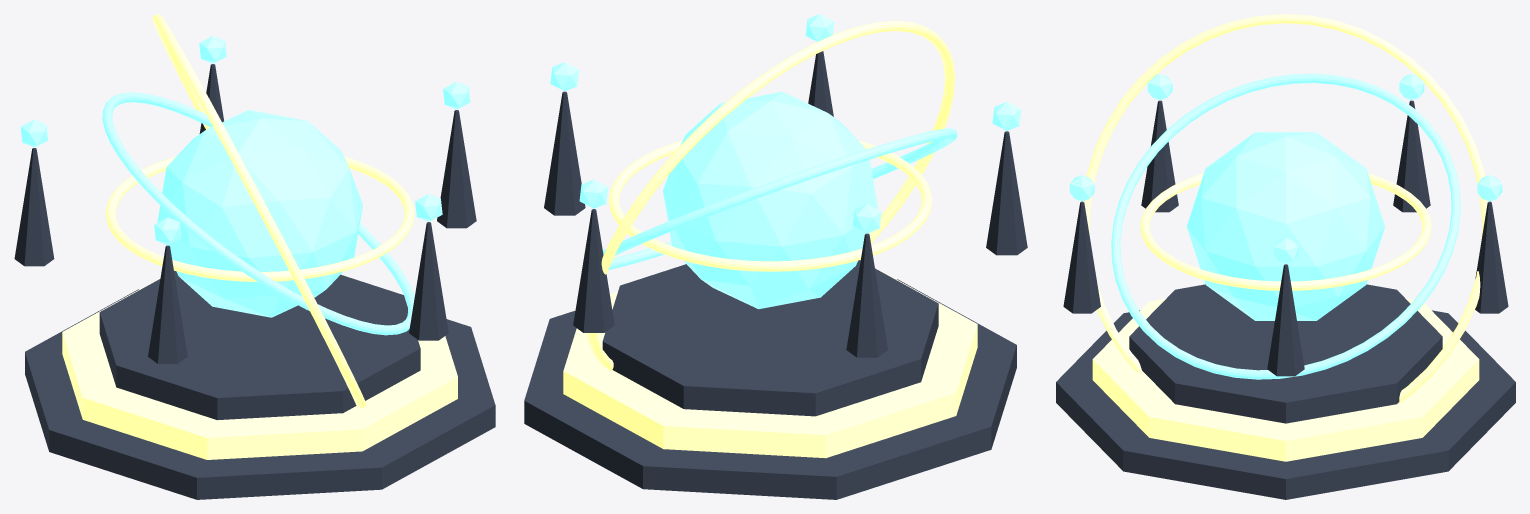
The model's file is gpu-blender-v54.glb.
3 renders of one model, left to right at view 1: azimuth 30°, elevation 25°; view 2: azimuth 150°, elevation 25°; view 3: azimuth 270°, elevation 25°, orthographic. The views are drawn at different scales.
Parts seen in each view (by area): view 1: Cylinder.002, SovereignCore_adytum-alchemist-ai-workflow, Cylinder, Cylinder.001, Torus.001, Torus.002, Torus, Cone.002, Cone.004, Cone.003, Cone, Icosphere.001 (+5 smaller); view 2: Cylinder.002, SovereignCore_adytum-alchemist-ai-workflow, Cylinder, Cylinder.001, Torus.002, Torus, Torus.001, Cone.003, Cone.002, Cone, Cone.001, Cone.004 (+5 smaller); view 3: SovereignCore_adytum-alchemist-ai-workflow, Cylinder.002, Cylinder, Cylinder.001, Torus.001, Torus.002, Torus, Cone, Cone.004, Cone.001, Cone.002, Cone.003 (+5 smaller).
Part boxes in pixels (x1=…): Cylinder.002: x1=99, y1=271, x2=420, y2=420; SovereignCore_adytum-alchemist-ai-workflow: x1=157, y1=110, x2=362, y2=317; Cylinder: x1=25, y1=289, x2=495, y2=499; Cylinder.001: x1=62, y1=279, x2=457, y2=459; Torus.001: x1=102, y1=92, x2=414, y2=335; Torus.002: x1=152, y1=14, x2=366, y2=407; Torus: x1=105, y1=156, x2=414, y2=281; Cone.002: x1=14, y1=148, x2=54, y2=266; Cone.004: x1=409, y1=222, x2=448, y2=340; Cone.003: x1=148, y1=245, x2=187, y2=363; Cone: x1=437, y1=110, x2=476, y2=228; Icosphere.001: x1=199, y1=36, x2=226, y2=63; Cylinder.002: x1=602, y1=260, x2=938, y2=416; SovereignCore_adytum-alchemist-ai-workflow: x1=663, y1=91, x2=877, y2=309; Cylinder: x1=524, y1=279, x2=1016, y2=499; Cylinder.001: x1=563, y1=269, x2=977, y2=458; Torus.002: x1=587, y1=20, x2=954, y2=370; Torus: x1=609, y1=140, x2=932, y2=271; Torus.001: x1=603, y1=128, x2=957, y2=269; Cone.003: x1=986, y1=131, x2=1027, y2=255; Cone.002: x1=846, y1=233, x2=887, y2=357; Cone: x1=544, y1=91, x2=585, y2=215; Cone.001: x1=573, y1=209, x2=614, y2=332; Cone.004: x1=808, y1=51, x2=833, y2=116; SovereignCore_adytum-alchemist-ai-workflow: x1=1186, y1=132, x2=1385, y2=320; Cylinder.002: x1=1129, y1=284, x2=1442, y2=423; Cylinder: x1=1056, y1=310, x2=1515, y2=499; Cylinder.001: x1=1092, y1=298, x2=1479, y2=461; Torus.001: x1=1111, y1=73, x2=1460, y2=379; Torus.002: x1=1083, y1=14, x2=1488, y2=403; Torus: x1=1140, y1=173, x2=1431, y2=290; Cone: x1=1267, y1=264, x2=1304, y2=376; Cone.004: x1=1063, y1=201, x2=1100, y2=313; Cone.001: x1=1475, y1=201, x2=1508, y2=313; Cone.002: x1=1393, y1=100, x2=1430, y2=212; Cone.003: x1=1141, y1=100, x2=1178, y2=212.
Bounding box in the file's own units: 4.41 × 3.72 × 4.4.
